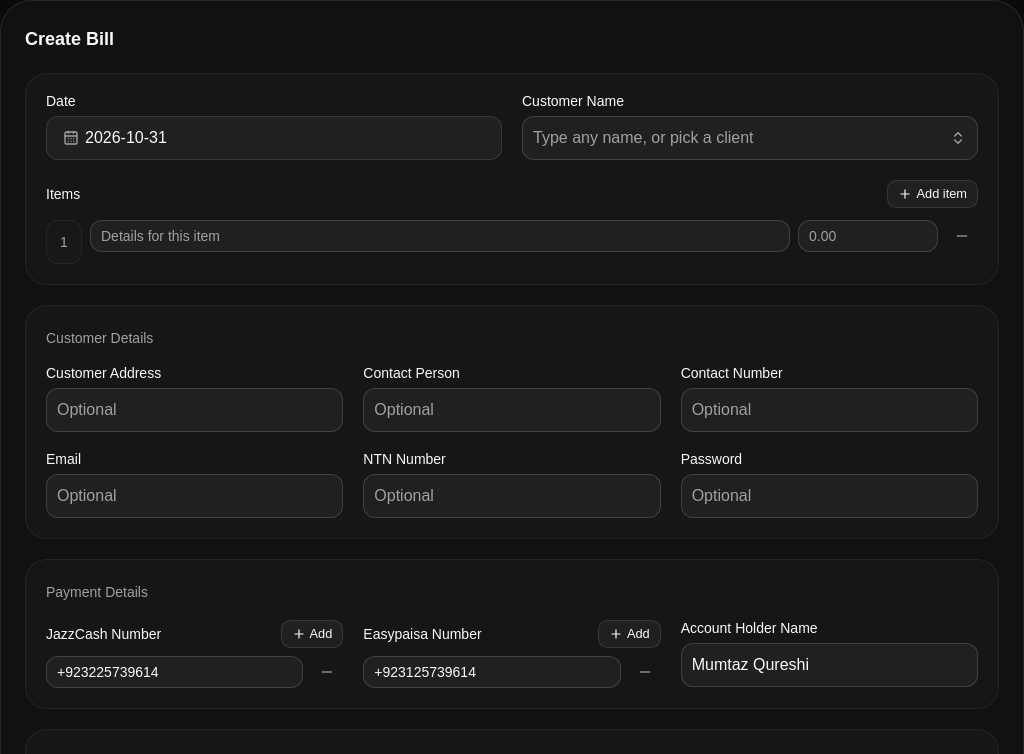
Test case: CreateBillForm › adds another JazzCash number with the plus button
What coordinates should you click on to do the following:
click the button with aria-label "Add JazzCash Number"
I would click on:
 (312, 634)
Its box is [280,620,343,648].
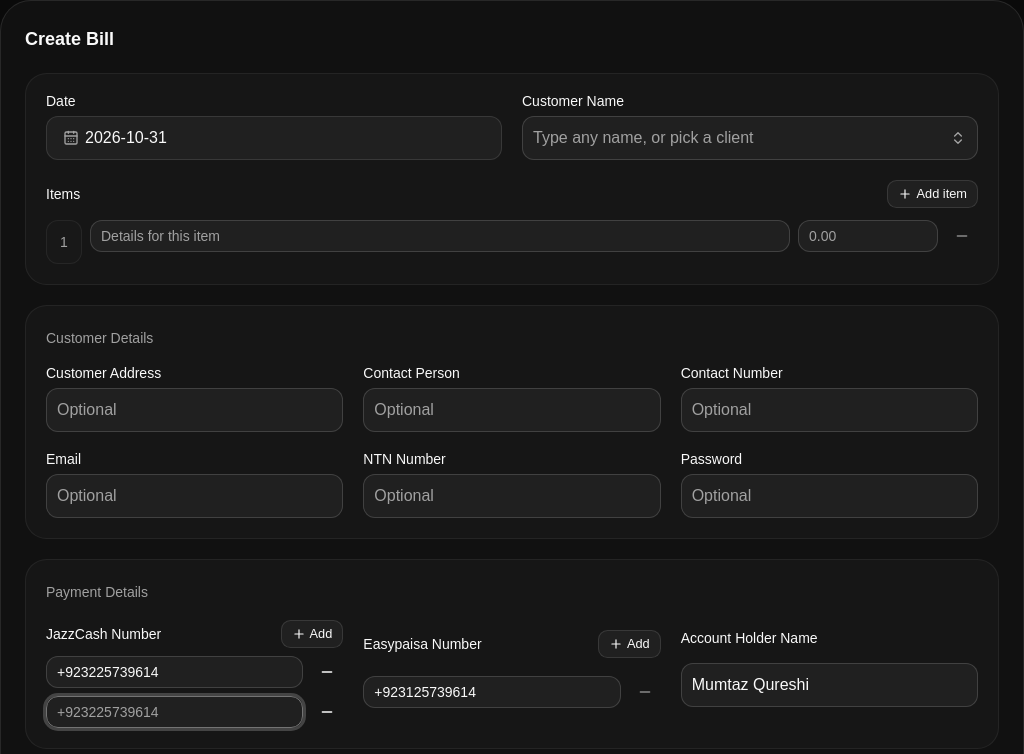
Check: the field named "JazzCash Number 2" is shown, box [46,696,303,728]
